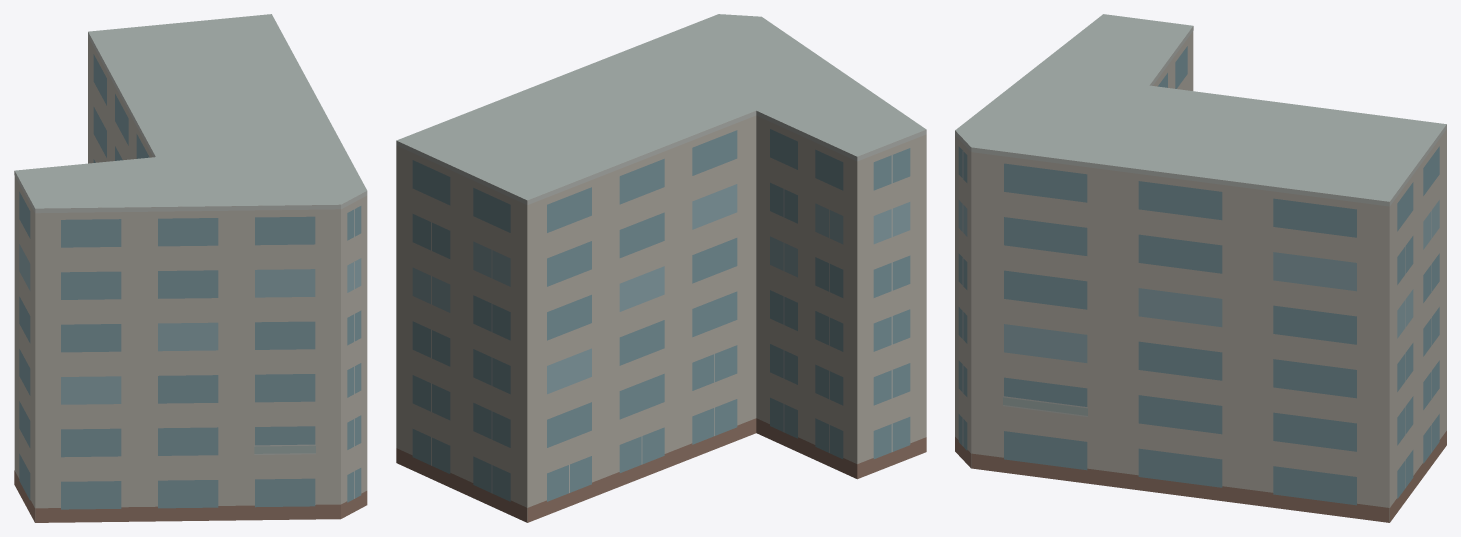
The model's file is survey-upis-32965588.glb.
The picture shows the model from 3 angles, left to right: view 1: azimuth 30°, elevation 25°; view 2: azimuth 150°, elevation 25°; view 3: azimuth 270°, elevation 25°; orthographic projection. The views are drawn at different scales.
Parts seen in each view (by area): view 1: survey-upis-32965588.tmp; view 2: survey-upis-32965588.tmp; view 3: survey-upis-32965588.tmp.
Part boxes in pixels (x1,y1,x2,y2): survey-upis-32965588.tmp: (14,14,367,522); survey-upis-32965588.tmp: (396,14,926,522); survey-upis-32965588.tmp: (955,14,1446,522).
Bounding box in the file's own units: 20.71 × 16.5 × 22.91.
